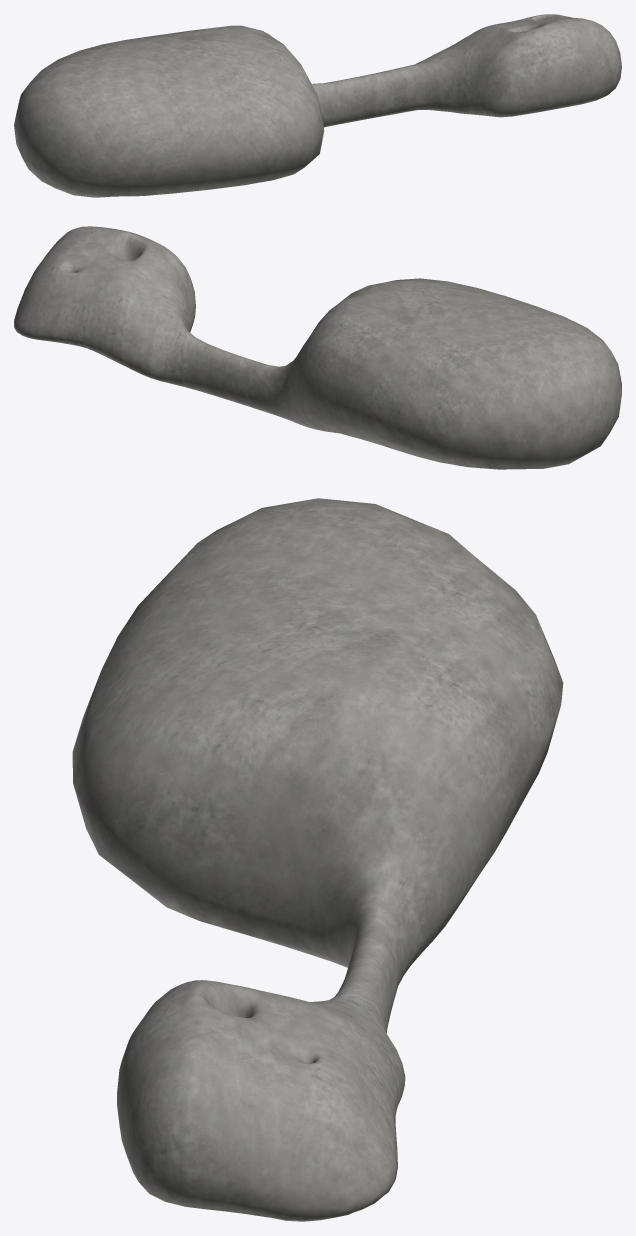
The model's file is cave.fbx.
The picture shows the model from 3 angles, top to bottom: view 1: azimuth 30°, elevation 25°; view 2: azimuth 150°, elevation 25°; view 3: azimuth 270°, elevation 25°; orthographic projection. The views are drawn at different scales.
Parts seen in each view (by area): view 1: Cube; view 2: Cube; view 3: Cube.
Part boxes in pixels (<box>): Cube: <box>14,14,621,197</box>; Cube: <box>14,226,621,469</box>; Cube: <box>72,498,563,1221</box>.
Bounding box in the file's own units: 54.43 × 11.77 × 20.67.
1 material, 1 textured.
